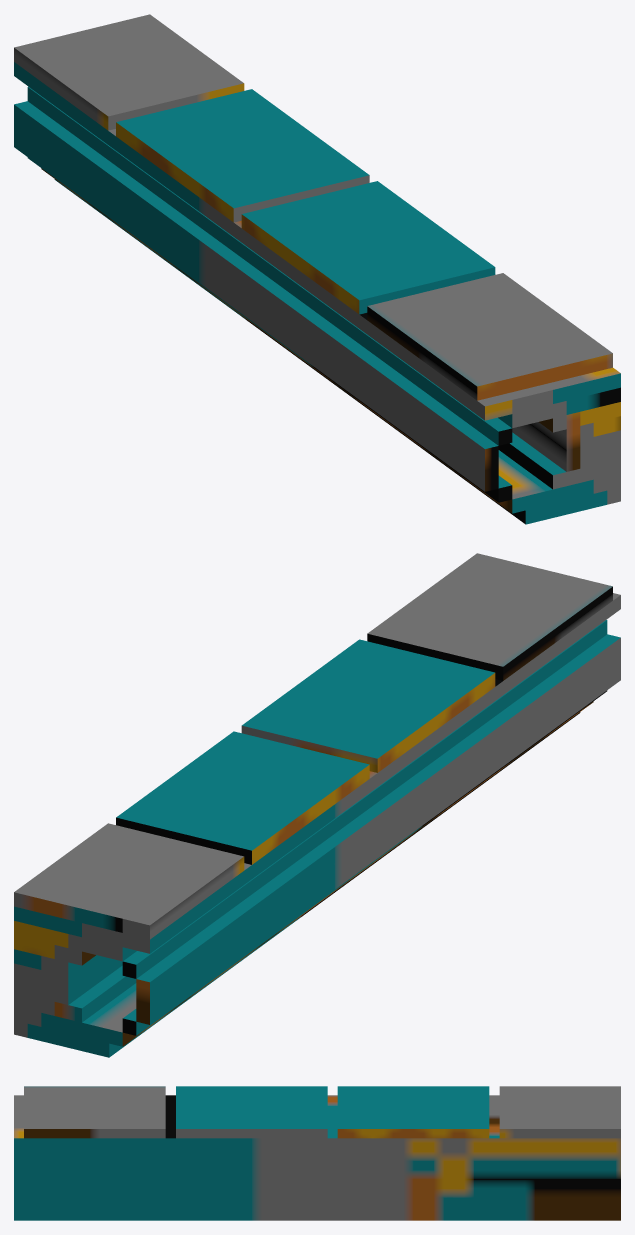
The model's file is Sidewalk.2.dae.
3 views of the same model, one above another, from view 1: azimuth 30°, elevation 25°; view 2: azimuth 150°, elevation 25°; view 3: azimuth 270°, elevation 25° (orthographic). The views are drawn at different scales.
Parts seen in each view (by area): view 1: Ground; view 2: Ground; view 3: Ground.
Boxes of the visible parts, left/top/right/bottom form: Ground: left=14, top=14, right=620, bottom=524; Ground: left=14, top=553, right=620, bottom=1057; Ground: left=14, top=1086, right=620, bottom=1220.
Size of the model in its own units: 10 by 10 by 60.
1 material, 1 textured.
